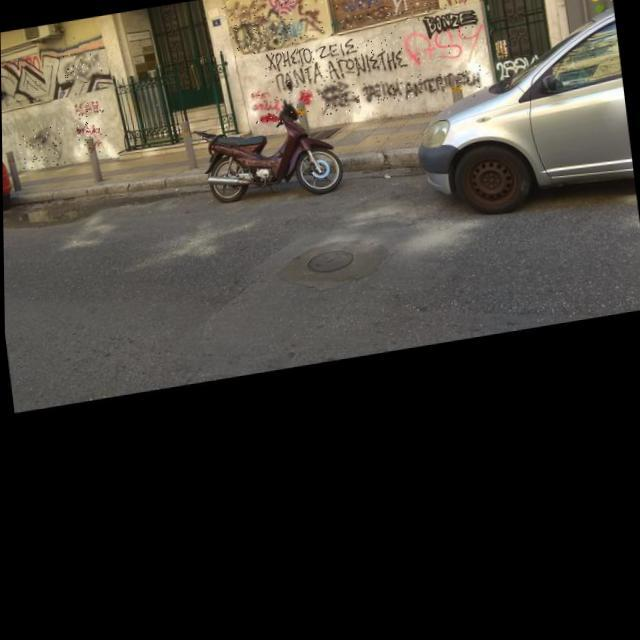-: (262, 36, 405, 92), (362, 70, 482, 111), (402, 29, 484, 72), (228, 15, 296, 60), (247, 86, 314, 130), (17, 126, 66, 170), (72, 100, 108, 156), (313, 83, 360, 122), (383, 0, 434, 32), (492, 58, 548, 87), (59, 50, 103, 86), (297, 0, 327, 52), (337, 10, 398, 33), (220, 0, 269, 24), (332, 0, 384, 18), (262, 0, 302, 20), (435, 0, 478, 15), (599, 0, 612, 9)
